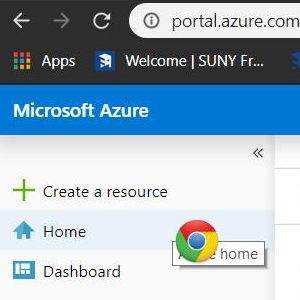chrome: (175, 219, 218, 263)
